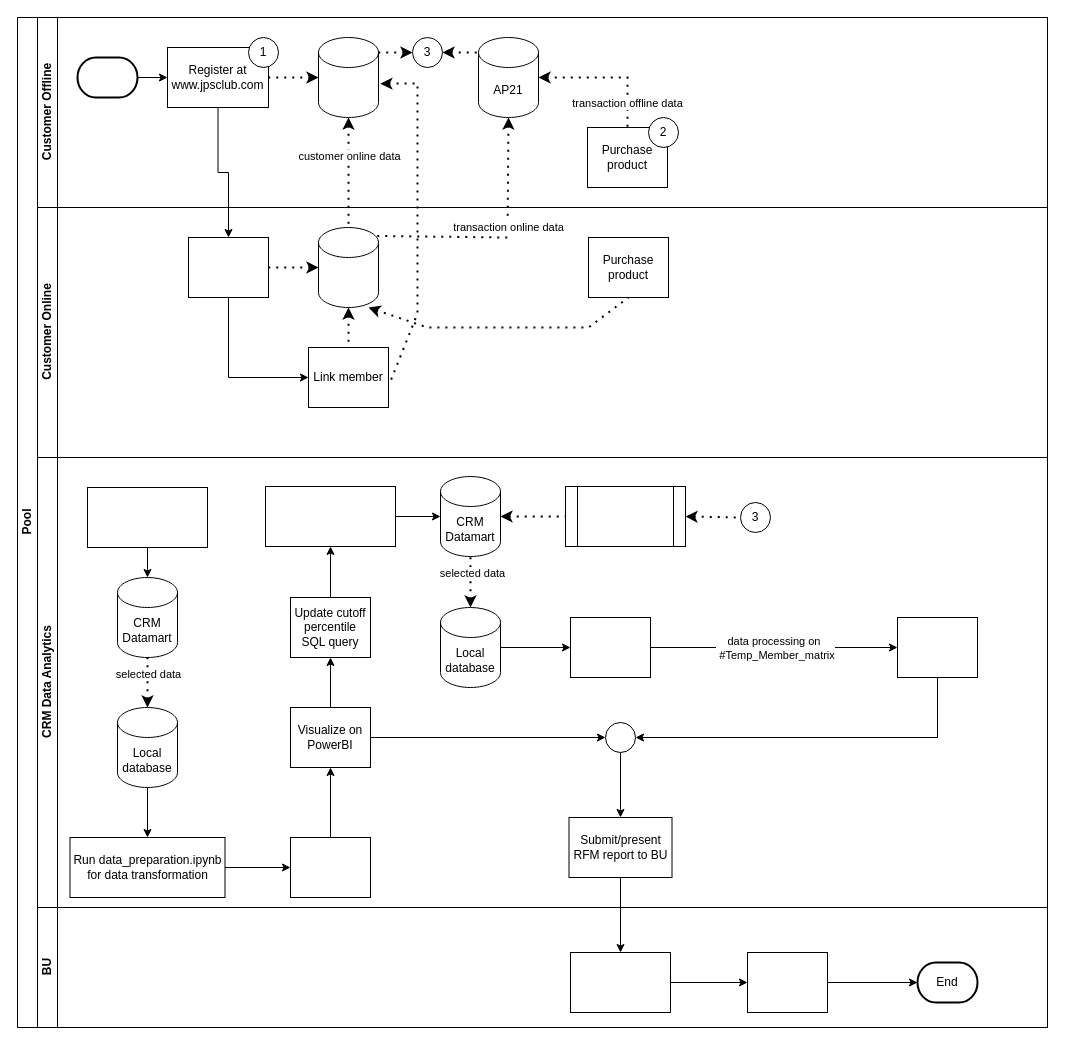
Image size: 1065x1045. Some labels were removed from this diagram. The centre of each missing label's shape, as x and y in pixels:
Additional csv files: the point at 330,867
Capilliary: the point at 348,77
Find insight and Investigate issues of report: the point at 620,982
Find solution and implement: the point at 787,982
Generate RFM report: the point at 937,647
Import to Power BI: the point at 610,647
Magento: the point at 348,267
Register at brands website: the point at 228,267
Run RFM_first_stage.sql query: the point at 147,517
Run RFM_second_stage.sql query: the point at 330,516
Schedule job Data integration: the point at 625,516
start: the point at 107,77
